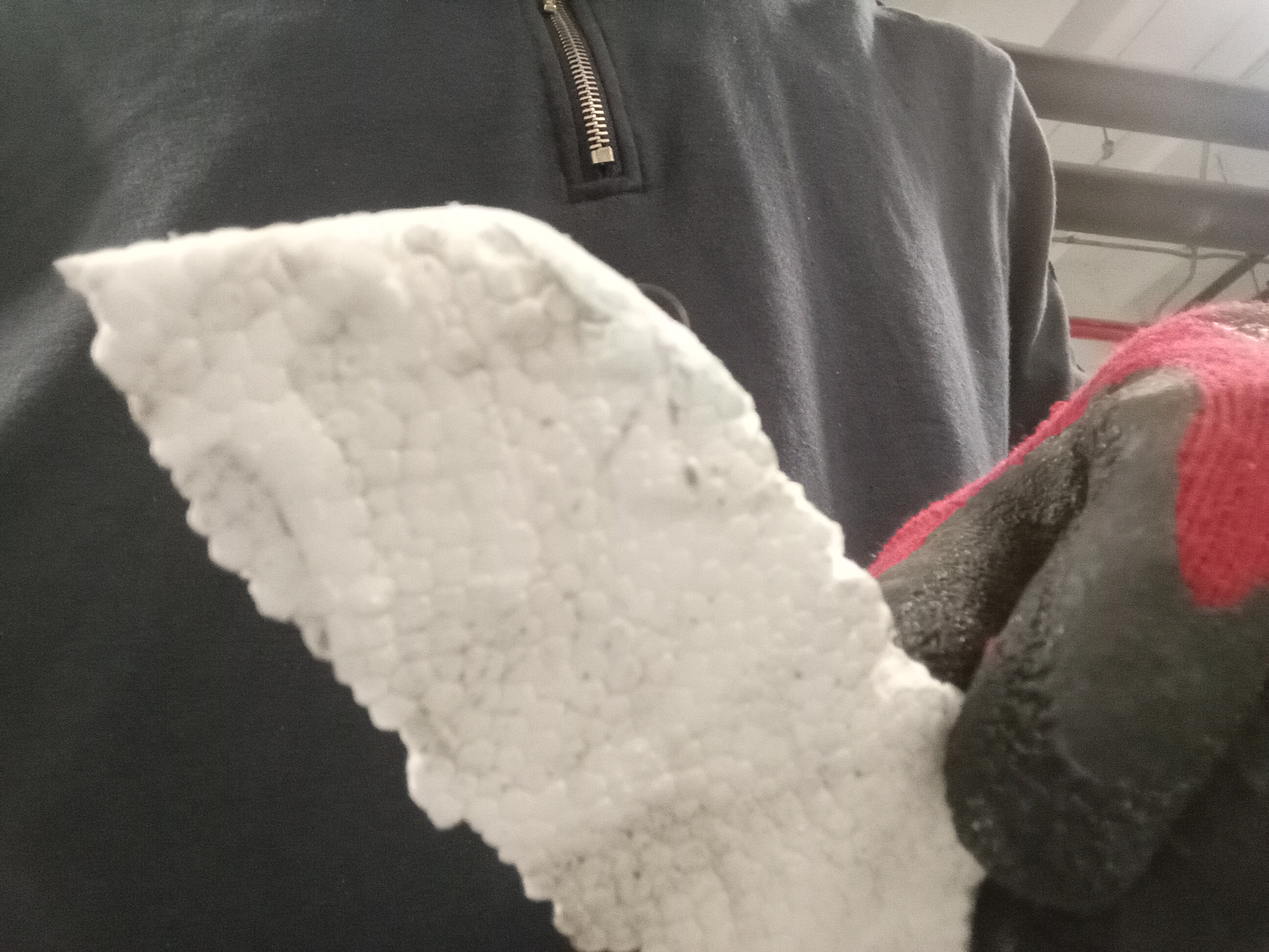Ordinario: (54, 203, 994, 952)
